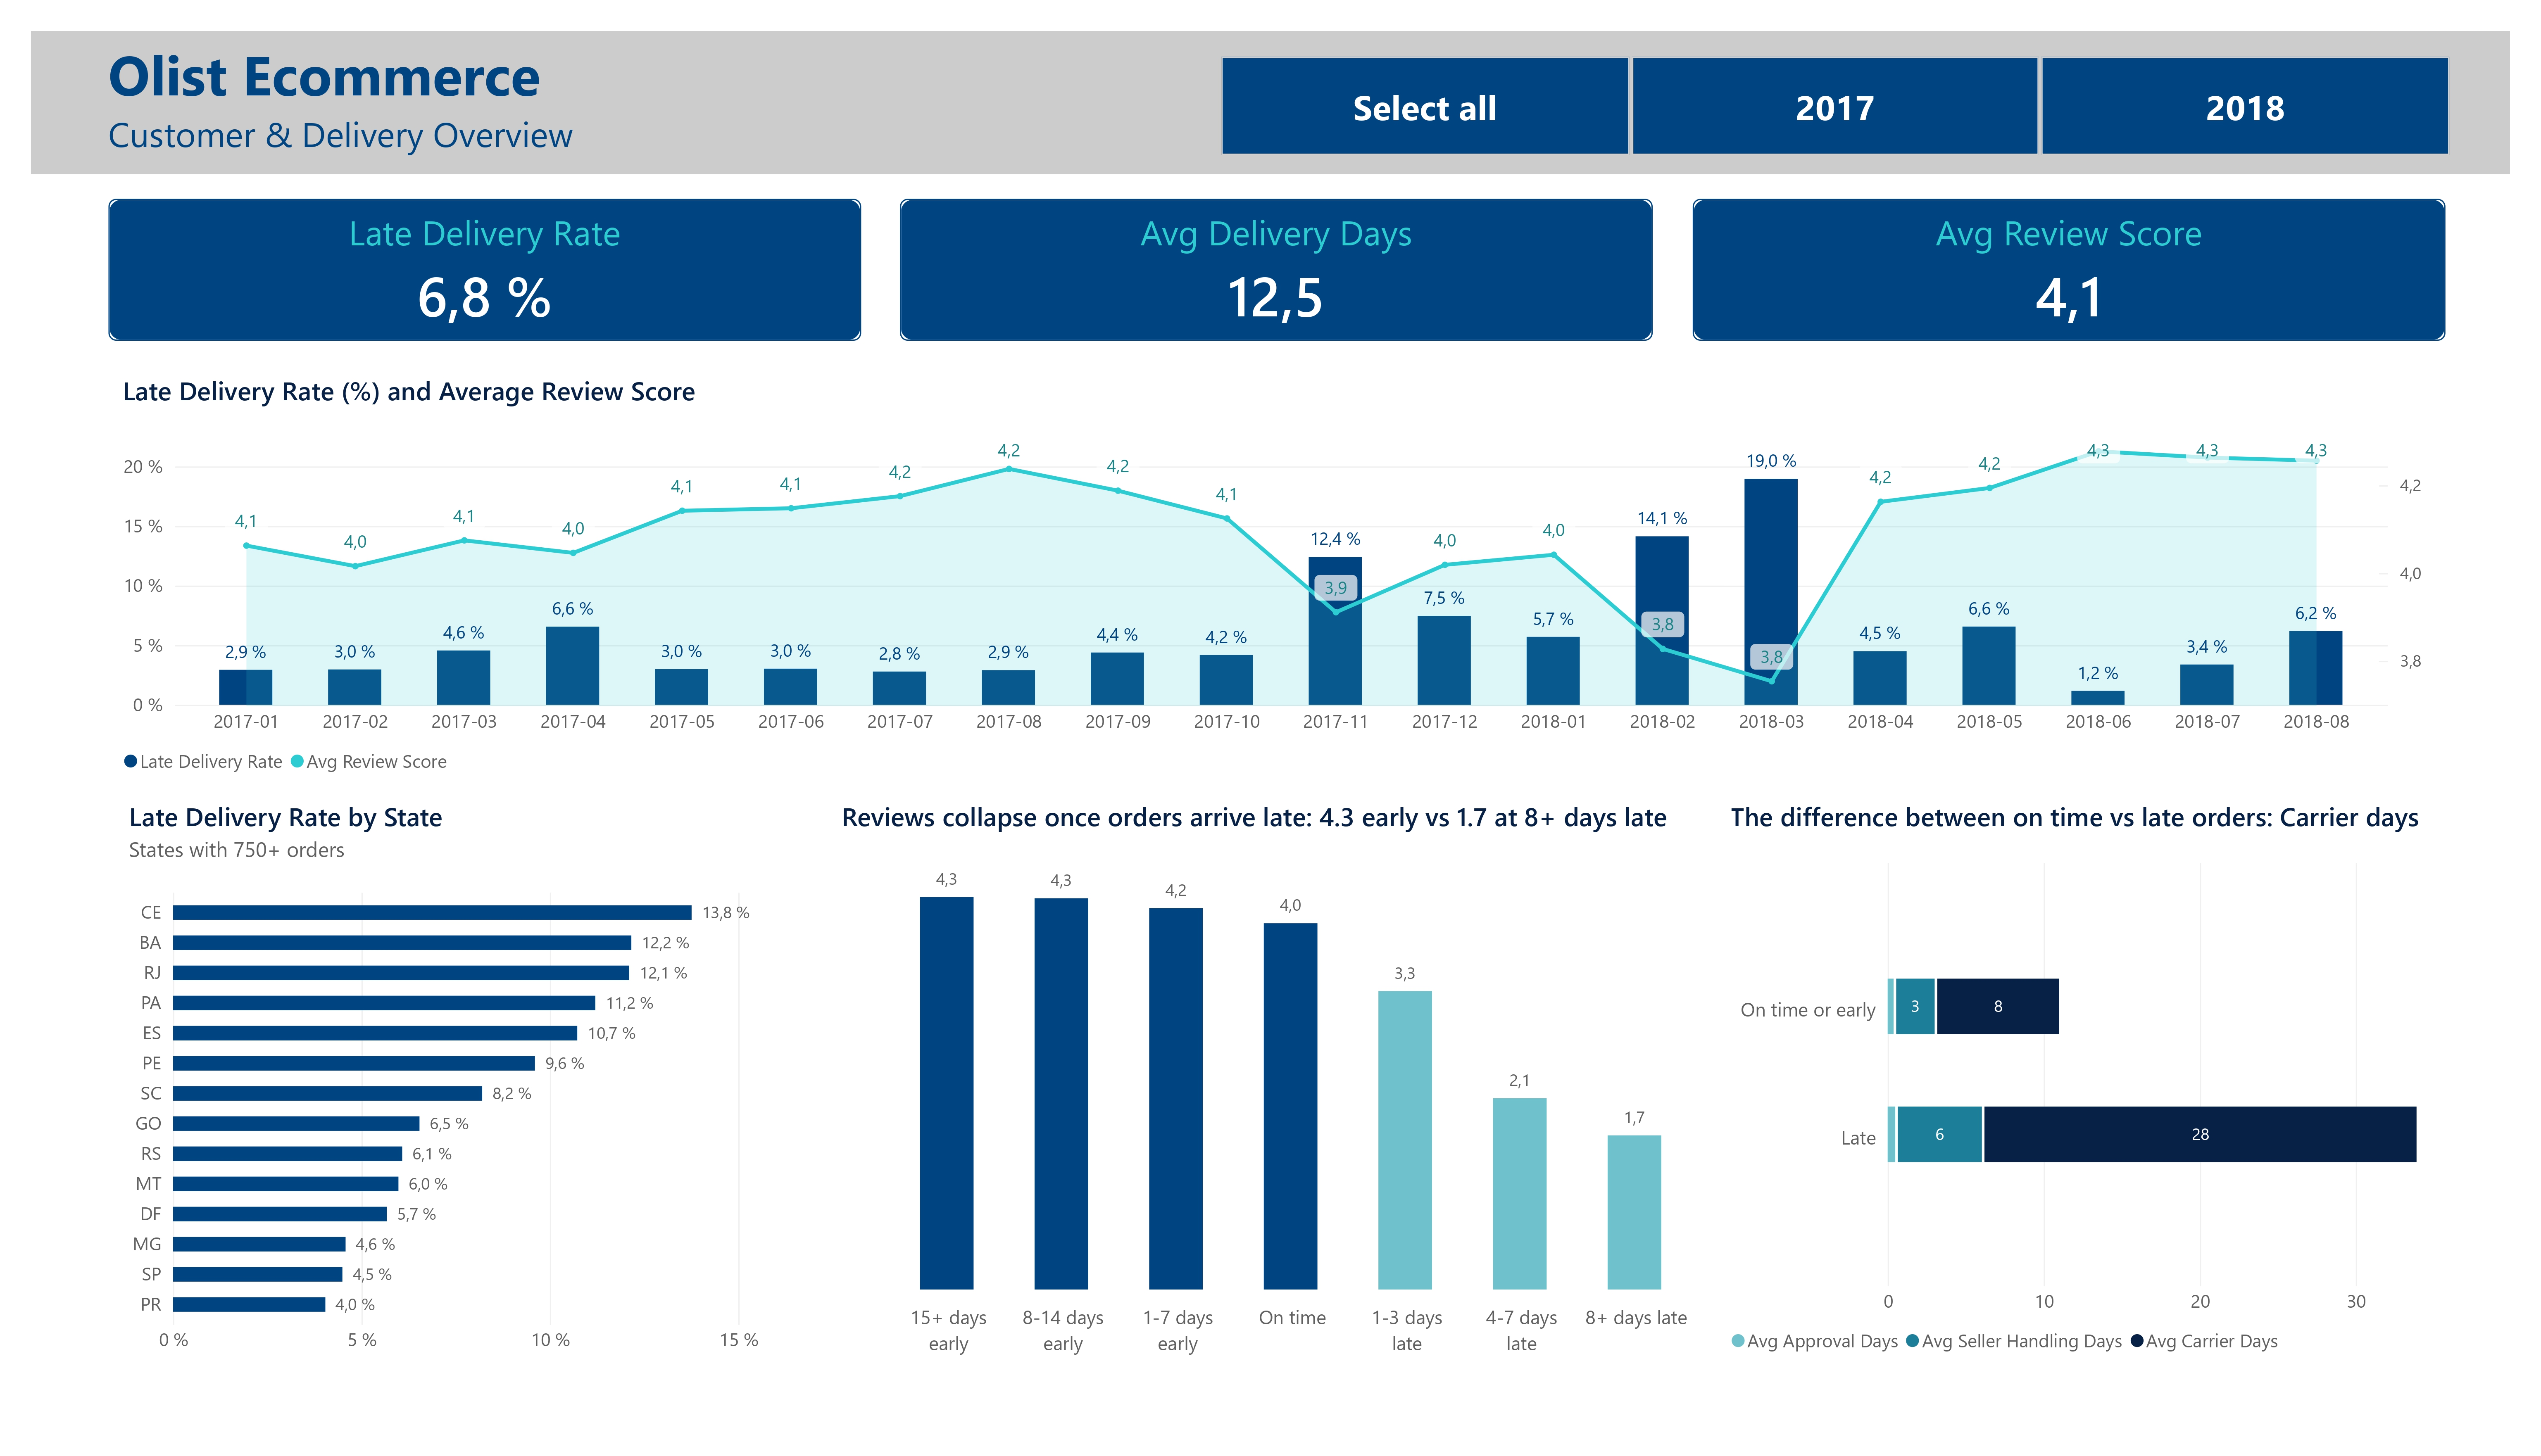

What the dashboard file says about the page in this screenshot:
{"tool":"powerbi","page":{"name":"Customer & Delivery Overview","canvas":[1920,1080],"ordinal":1},"visuals":[{"type":"cardVisual","fields":{"Data":["_Measures.Late Delivery Rate"]},"box":[60,130,583,110],"z":0,"group":"g1"},{"type":"lineStackedColumnComboChart","title":"Late Delivery Rate (%) and Average Review Score","fields":{"Category":["Calendar.Year-Month"],"Y":["_Measures.Late Delivery Rate"],"Y2":["_Measures.Avg Review Score"]},"box":[55,250,1815,346],"z":0},{"type":"group","id":"g1","title":"Group 1","box":[60,130,1810,110],"z":1000},{"type":"cardVisual","fields":{"Data":["_Measures.Avg Delivery Days"]},"box":[672.8,130,583,110],"z":1000,"group":"g1"},{"type":"shape","box":[0,0,1920,111.2],"z":2000},{"type":"cardVisual","fields":{"Data":["_Measures.Avg Review Score"]},"box":[1287,130,583,110],"z":2000,"group":"g1"},{"type":"textbox","box":[60,3.8,548.6,107.7],"z":3000},{"type":"slicer","fields":{"Values":["Calendar.Year"]},"box":[901.2,17.5,991.1,80],"z":4000},{"type":"clusteredBarChart","title":"Late Delivery Rate by State","fields":{"Category":["dim_customers.customer_state"],"Y":["_Measures.Late Delivery Rate"]},"box":[60,580,549,465],"z":5000,"group":"g2"},{"type":"barChart","title":"The difference between on time vs late orders: Carrier days","fields":{"Category":["fact_orders.delivery_status"],"Y":["_Measures.Avg Approval Days","_Measures.Avg Seller Handling Days","_Measures.Avg Carrier Days"]},"box":[1300,580,585,465],"z":6000,"group":"g2"},{"type":"clusteredColumnChart","title":"Reviews collapse once orders arrive late: 4.3 early vs 1.7 at 8+ days late","fields":{"Category":["fact_orders.delay_bucket"],"Y":["_Measures.Avg Review Score"]},"box":[612,580,705,465],"z":7000,"group":"g2"},{"type":"group","id":"g2","title":"Group 2","box":[60,580,1825,465],"z":7001}]}

Visuals, with their boxes on the page's 1920x1080 design canvas (x1, y1, x2, y2). These are canvas units, not pixel positions in the 2541x1456 screenshot, which may show the page scaled, cropped or inside an application window:
cardVisual - _Measures.Late Delivery Rate: (60,130,643,240)
"Late Delivery Rate (%) and Average Review Score" lineStackedColumnComboChart: (55,250,1870,596)
"Group 1" group: (60,130,1870,240)
cardVisual - _Measures.Avg Delivery Days: (673,130,1256,240)
shape: (0,0,1920,111)
cardVisual - _Measures.Avg Review Score: (1287,130,1870,240)
textbox: (60,4,609,112)
slicer - Calendar.Year: (901,18,1892,98)
"Late Delivery Rate by State" clusteredBarChart: (60,580,609,1045)
"The difference between on time vs late orders: Carrier days" barChart: (1300,580,1885,1045)
"Reviews collapse once orders arrive late: 4.3 early vs 1.7 at 8+ days late" clusteredColumnChart: (612,580,1317,1045)
"Group 2" group: (60,580,1885,1045)
